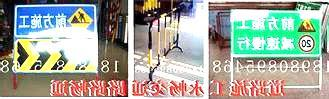sign: (14, 6, 98, 73), (232, 10, 321, 56)
